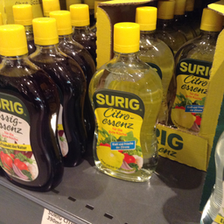vinegar: (85, 21, 164, 181), (1, 24, 64, 192), (174, 8, 224, 134)
